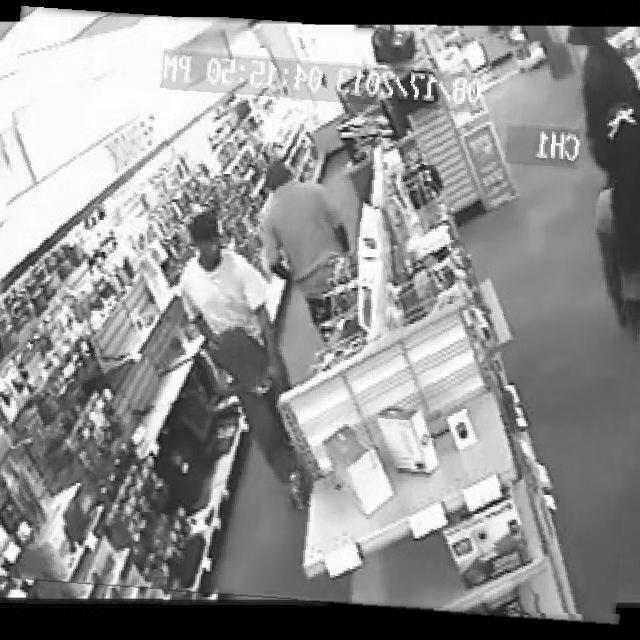Normal: (0, 17, 640, 614)
